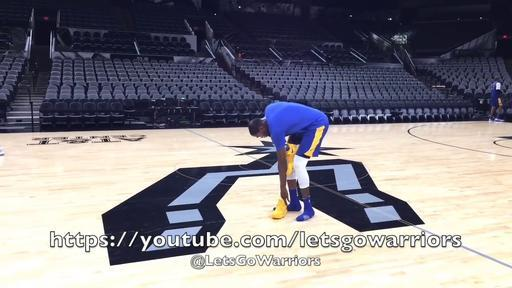human: (248, 102, 330, 221), (488, 76, 506, 122)
